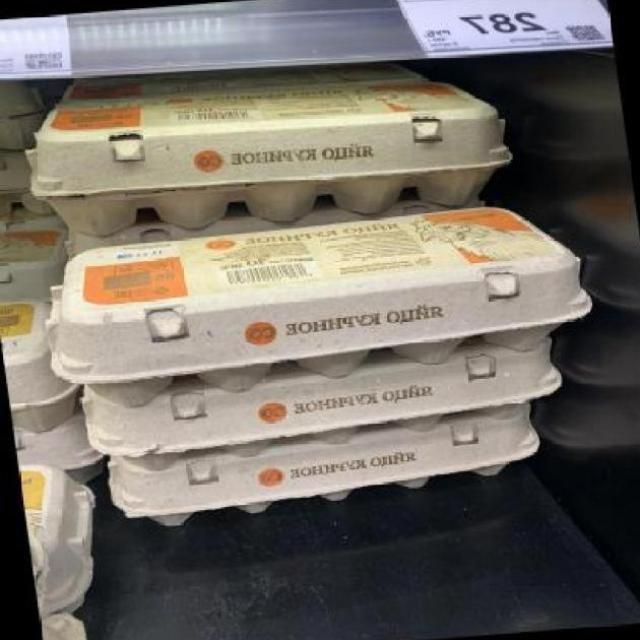Egg: (31, 199, 614, 414), (19, 72, 521, 242)
